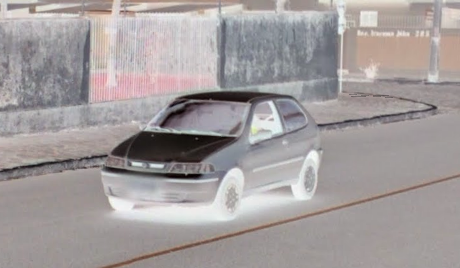car: (98, 86, 329, 220)
